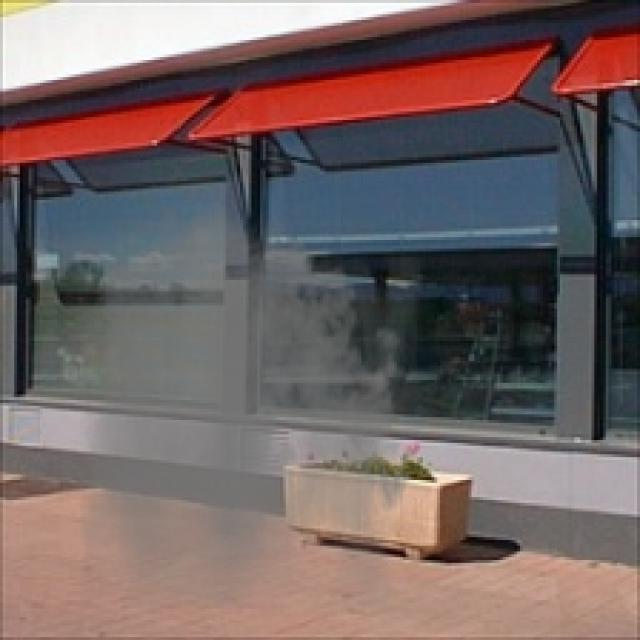Smoke: (80, 186, 423, 608)
